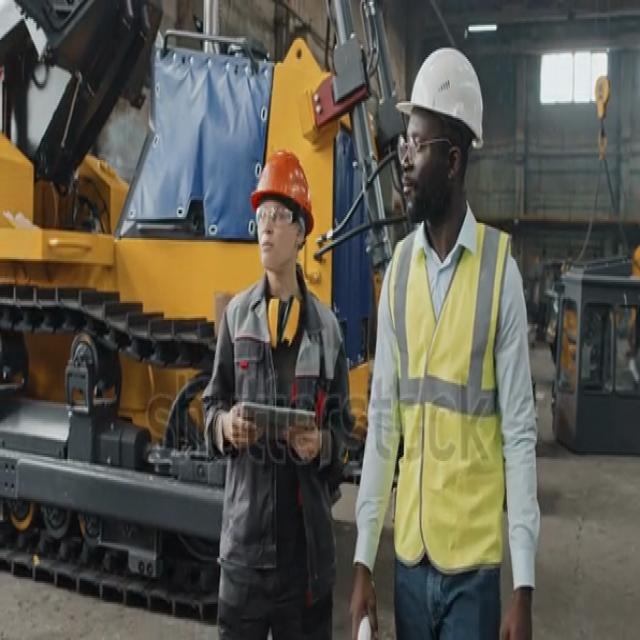Ear-Protection: (265, 293, 298, 348)
Glasses: (251, 201, 300, 236), (395, 133, 453, 162)
Helmet: (401, 42, 486, 154), (249, 152, 318, 216)
Vest: (381, 220, 514, 570)
